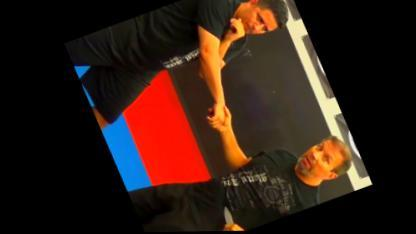knife: (205, 202, 238, 230)
